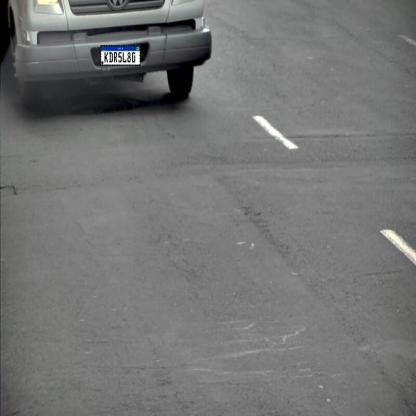PlacaM: (101, 45, 140, 66)
